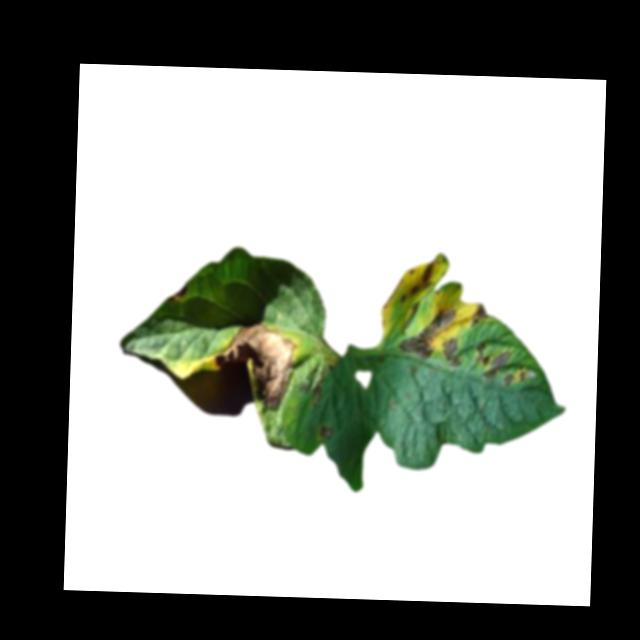Early_blight: (212, 323, 297, 411), (398, 307, 456, 360), (475, 341, 529, 387), (398, 259, 436, 305), (441, 333, 464, 367), (469, 302, 489, 326), (316, 425, 335, 438)
